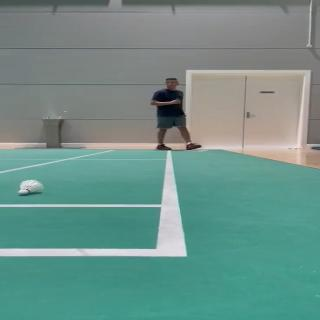Shuttle: (18, 179, 45, 195)
